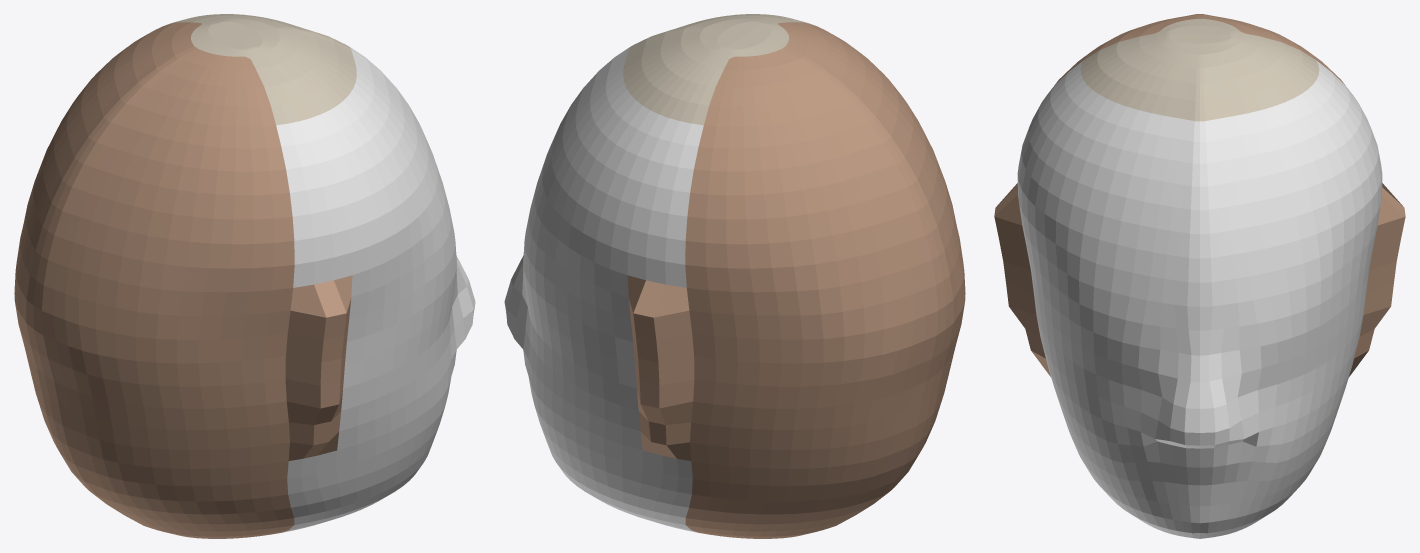
The model's file is BorisHead.fbx.
The picture shows the model from 3 angles, left to right: view 1: azimuth 30°, elevation 25°; view 2: azimuth 150°, elevation 25°; view 3: azimuth 270°, elevation 25°; orthographic projection. The views are drawn at different scales.
Parts seen in each view (by area): view 1: BorisHead; view 2: BorisHead; view 3: BorisHead.
Part boxes in pixels (x1,y1,x2,y2): BorisHead: (14, 14, 475, 538); BorisHead: (504, 14, 965, 538); BorisHead: (994, 14, 1405, 538).
Size of the model in its own units: 106 by 120 by 129.
